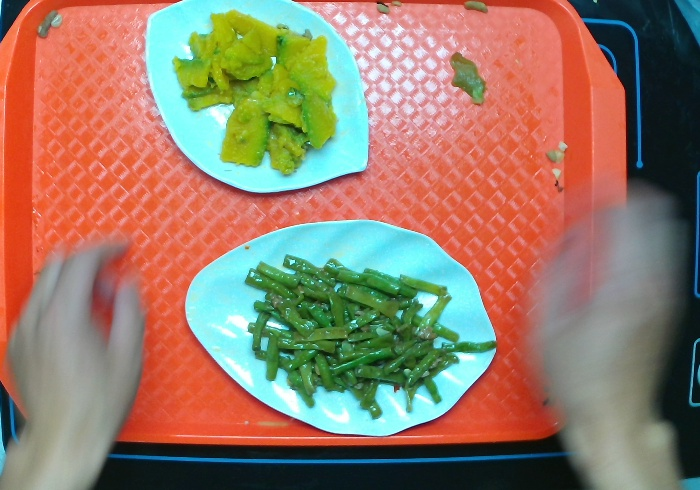RJxy-Bai_Ye_Pan: (183, 217, 499, 438)
RJxy-Da_Du_Pan: (143, 1, 370, 195)
